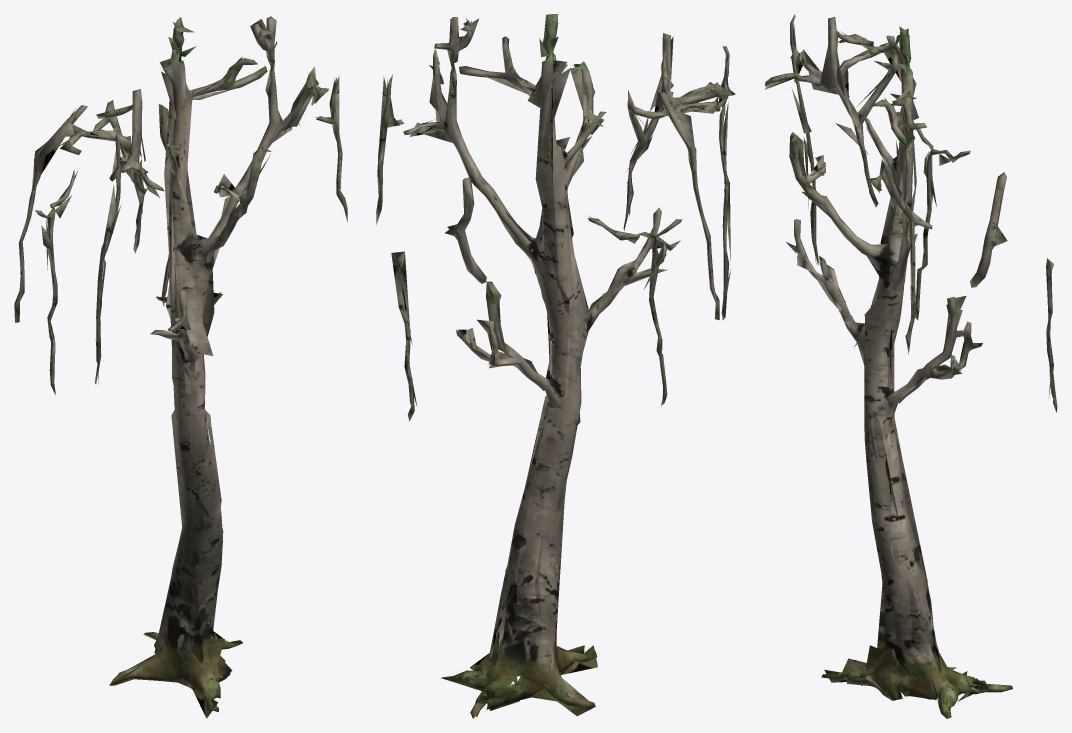
Rendered from tree_birch_trunk.glb.
The picture shows the model from 3 angles, left to right: view 1: azimuth 30°, elevation 25°; view 2: azimuth 150°, elevation 25°; view 3: azimuth 270°, elevation 25°; orthographic projection. The views are drawn at different scales.
Visible parts, largest first — view 1: tree_birch_trunk, far; view 2: tree_birch_trunk, far; view 3: tree_birch_trunk, far.
Boxes of the visible parts, left/top/right/bottom form: tree_birch_trunk: left=14, top=16, right=347, bottom=712; far: left=31, top=17, right=341, bottom=718; tree_birch_trunk: left=376, top=14, right=735, bottom=718; far: left=377, top=14, right=731, bottom=717; tree_birch_trunk: left=765, top=14, right=1057, bottom=718; far: left=764, top=17, right=1053, bottom=709.
Bounding box in the file's own units: 4.27 × 8.16 × 3.28.
1 material, 1 textured.
